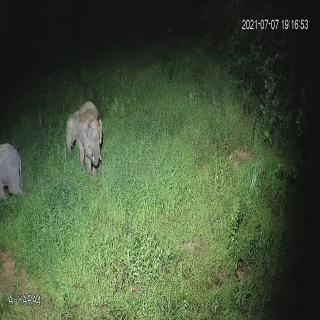Elephant: (64, 90, 102, 156), (76, 106, 104, 174)
